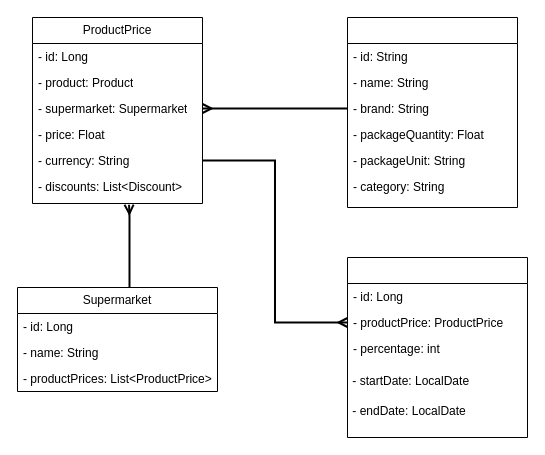
The diagram is 545 pixels wide and 455 high, and some of its shapes have lost their labels. Each missing label, with the box of its shape:
Discount: (346, 256, 528, 438)
Product: (346, 16, 518, 208)
